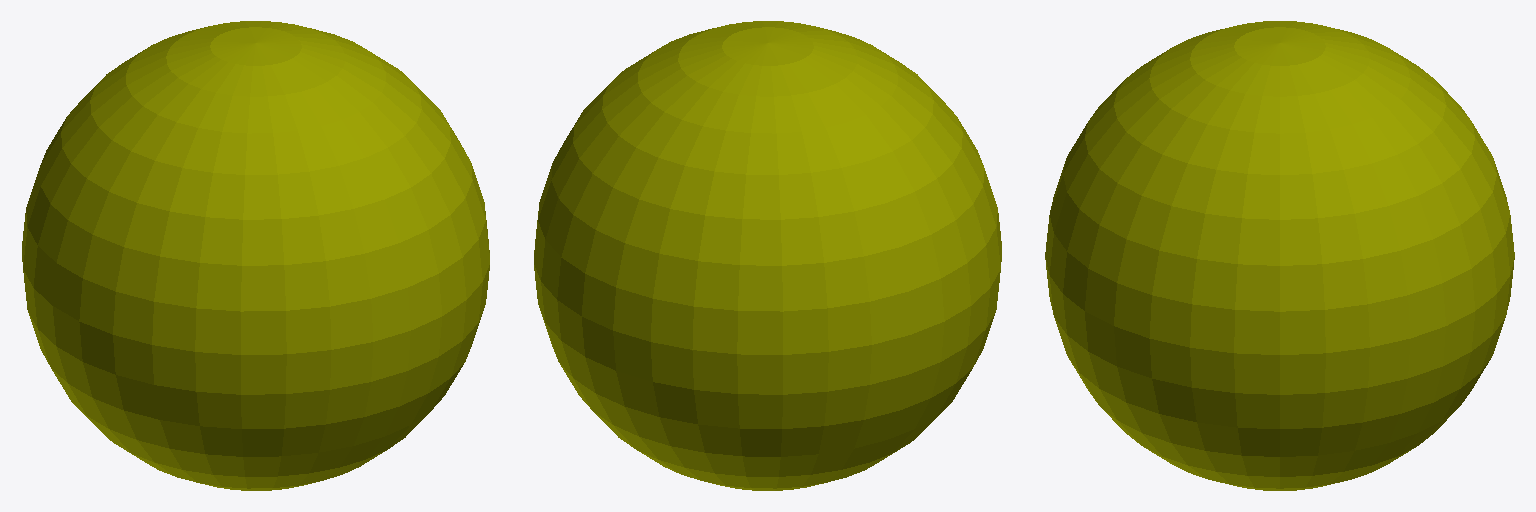
The model's file is inside.obj.
3 views of the same model, side by side, from view 1: azimuth 30°, elevation 25°; view 2: azimuth 150°, elevation 25°; view 3: azimuth 270°, elevation 25° (orthographic).
Visible parts, largest first — view 1: Sphere_Sphere.001; view 2: Sphere_Sphere.001; view 3: Sphere_Sphere.001.
Part boxes in pixels (bbox=[...]): Sphere_Sphere.001: bbox=[22, 21, 489, 490]; Sphere_Sphere.001: bbox=[534, 21, 1001, 490]; Sphere_Sphere.001: bbox=[1045, 21, 1514, 490].
Bounding box in the file's own units: 1.47 × 1.47 × 1.47.